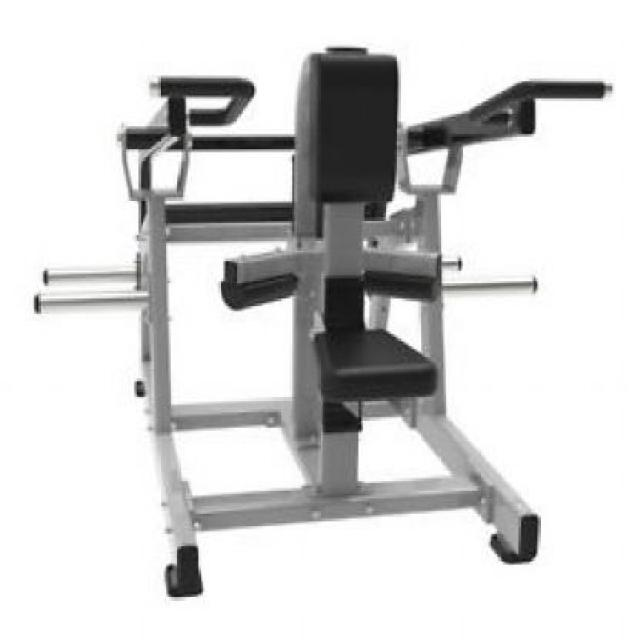seated dip machine: (34, 46, 615, 600)
